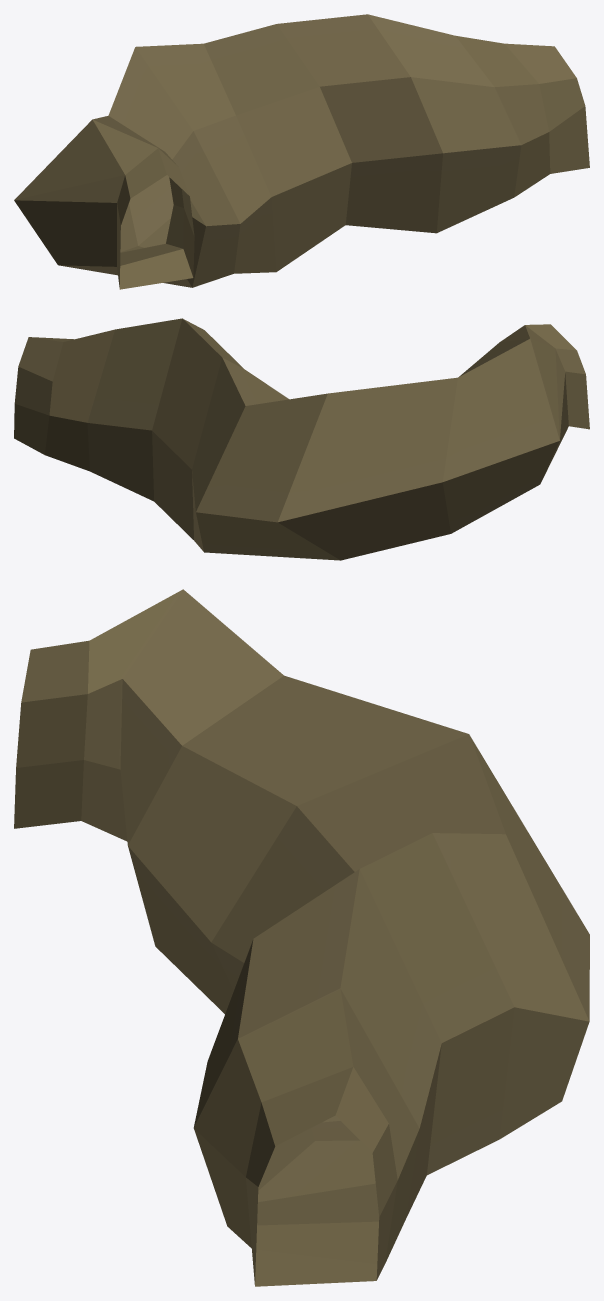
The model's file is Tunnel-C02.fbx.
3 views of the same model, one above another, from view 1: azimuth 30°, elevation 25°; view 2: azimuth 150°, elevation 25°; view 3: azimuth 270°, elevation 25° (orthographic). The views are drawn at different scales.
Visible parts, largest first — view 1: Tunnel-C02; view 2: Tunnel-C02; view 3: Tunnel-C02.
Part boxes in pixels (x1=…): Tunnel-C02: x1=14, y1=14, x2=589, y2=289; Tunnel-C02: x1=14, y1=318, x2=589, y2=560; Tunnel-C02: x1=14, y1=589, x2=589, y2=1286.
Size of the model in its own units: 796 by 1439 by 559.
